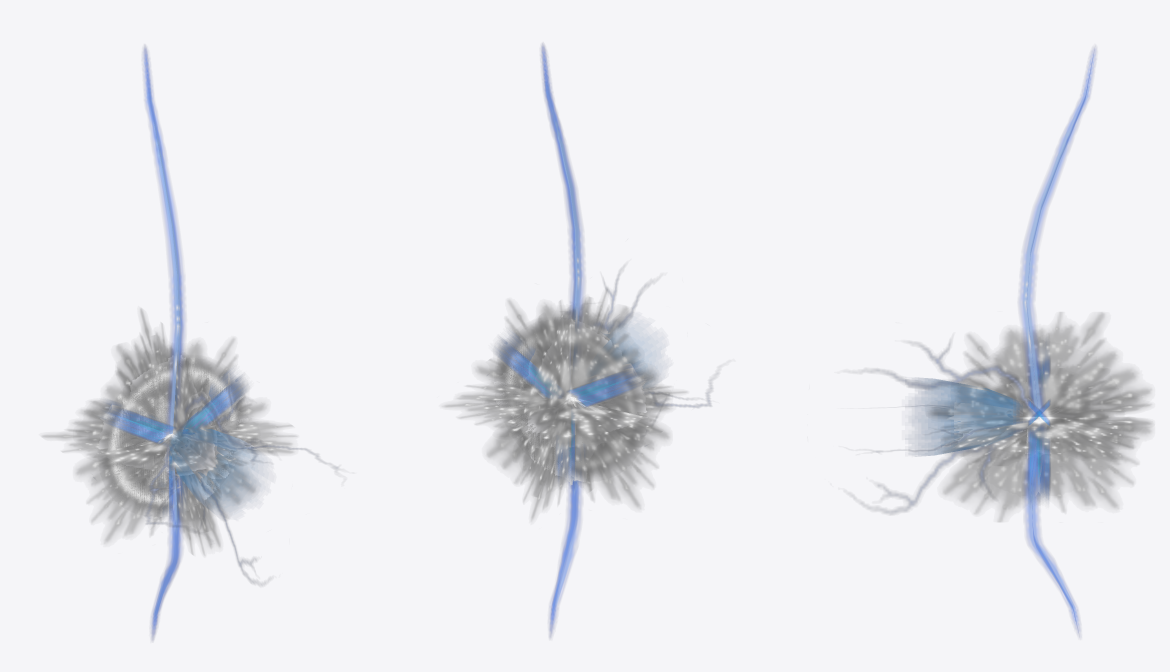
File: si_eoso_5100.glb
3 renders of one model, left to right at view 1: azimuth 30°, elevation 25°; view 2: azimuth 150°, elevation 25°; view 3: azimuth 270°, elevation 25°, orthographic.
Parts seen in each view (by area): view 1: layer_07_si_est_0201, layer_08_si_est_0402, layer_01_si_eoso_5103, layer_04_si_eoso_5107, layer_00_si_eoso_5100, layer_06_si_est_0002, layer_02_si_eoso_5104, layer_05_si_eoso_5107; view 2: layer_07_si_est_0201, layer_08_si_est_0402, layer_06_si_est_0002, layer_04_si_eoso_5107, layer_00_si_eoso_5100, layer_05_si_eoso_5107, layer_01_si_eoso_5103, layer_02_si_eoso_5104; view 3: layer_07_si_est_0201, layer_01_si_eoso_5103, layer_06_si_est_0002, layer_04_si_eoso_5107, layer_02_si_eoso_5104, layer_05_si_eoso_5107, layer_00_si_eoso_5100.
Boxes of the visible parts, bbox=[...] form: layer_07_si_est_0201: bbox=[42, 309, 295, 554]; layer_08_si_est_0402: bbox=[102, 359, 243, 511]; layer_01_si_eoso_5103: bbox=[169, 428, 260, 508]; layer_04_si_eoso_5107: bbox=[143, 46, 184, 434]; layer_00_si_eoso_5100: bbox=[104, 373, 244, 519]; layer_06_si_est_0002: bbox=[125, 399, 229, 480]; layer_02_si_eoso_5104: bbox=[145, 386, 338, 584]; layer_05_si_eoso_5107: bbox=[151, 456, 181, 640]; layer_07_si_est_0201: bbox=[444, 290, 685, 519]; layer_08_si_est_0402: bbox=[499, 325, 642, 475]; layer_06_si_est_0002: bbox=[513, 346, 621, 450]; layer_04_si_eoso_5107: bbox=[541, 44, 583, 362]; layer_00_si_eoso_5100: bbox=[497, 334, 640, 484]; layer_05_si_eoso_5107: bbox=[549, 480, 581, 637]; layer_01_si_eoso_5103: bbox=[606, 325, 657, 384]; layer_02_si_eoso_5104: bbox=[594, 273, 717, 445]; layer_07_si_est_0201: bbox=[930, 312, 1151, 521]; layer_01_si_eoso_5103: bbox=[912, 378, 1022, 455]; layer_06_si_est_0002: bbox=[978, 374, 1110, 453]; layer_04_si_eoso_5107: bbox=[1020, 48, 1095, 417]; layer_02_si_eoso_5104: bbox=[861, 343, 1037, 513]; layer_05_si_eoso_5107: bbox=[1024, 427, 1079, 635]; layer_00_si_eoso_5100: bbox=[1028, 358, 1050, 500].
Size of the model in its own units: 20 by 60.07 by 29.92.
8 materials, 8 textured.
